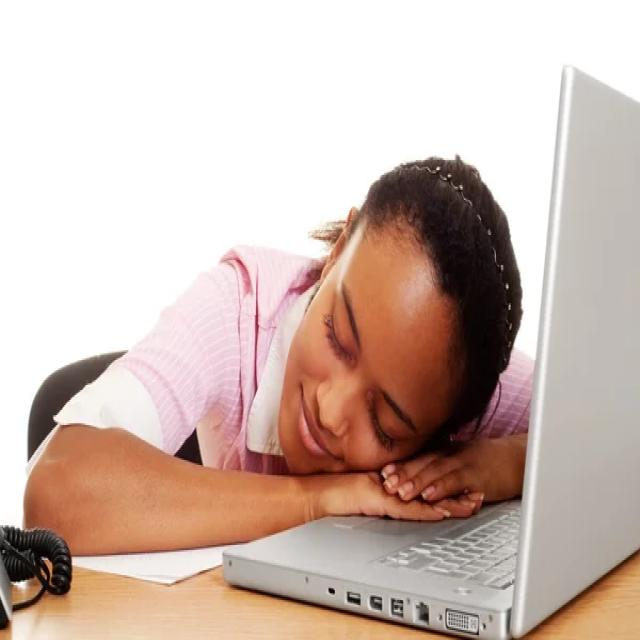Sleepy: (278, 220, 446, 473)
